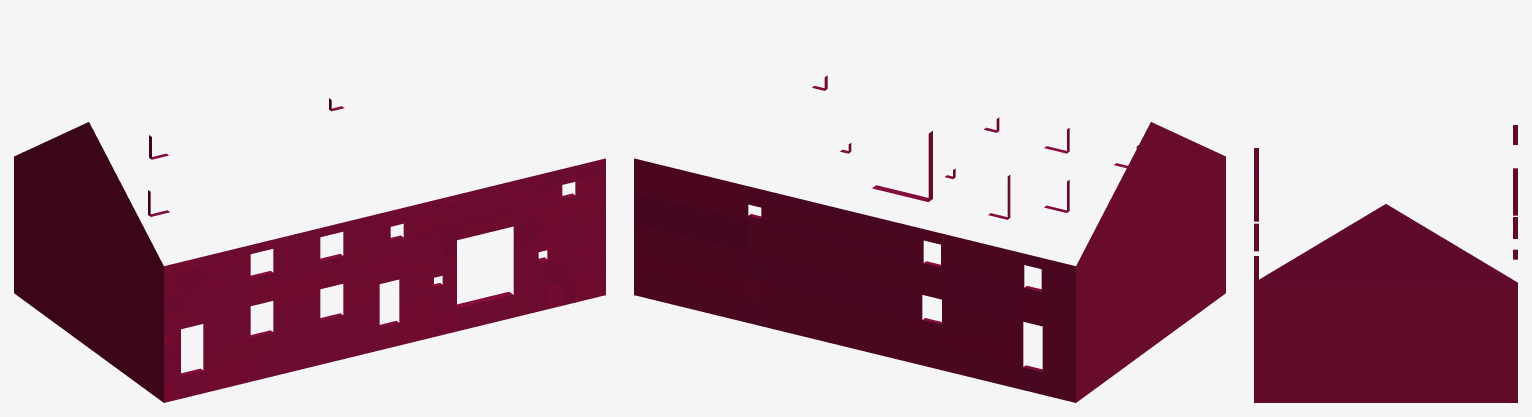
File: SM_Bld_131_Masonry.glb
The picture shows the model from 3 angles, left to right: view 1: azimuth 30°, elevation 25°; view 2: azimuth 150°, elevation 25°; view 3: azimuth 270°, elevation 25°; orthographic projection. The views are drawn at different scales.
Visible parts, largest first — view 1: SM_Bld_131_Masonry; view 2: SM_Bld_131_Masonry; view 3: SM_Bld_131_Masonry.
Part boxes in pixels (x1=…): SM_Bld_131_Masonry: x1=14, y1=98, x2=605, y2=402; SM_Bld_131_Masonry: x1=634, y1=75, x2=1225, y2=402; SM_Bld_131_Masonry: x1=1254, y1=125, x2=1517, y2=402.
Size of the model in its own units: 20.29 by 9.93 by 11.92.
